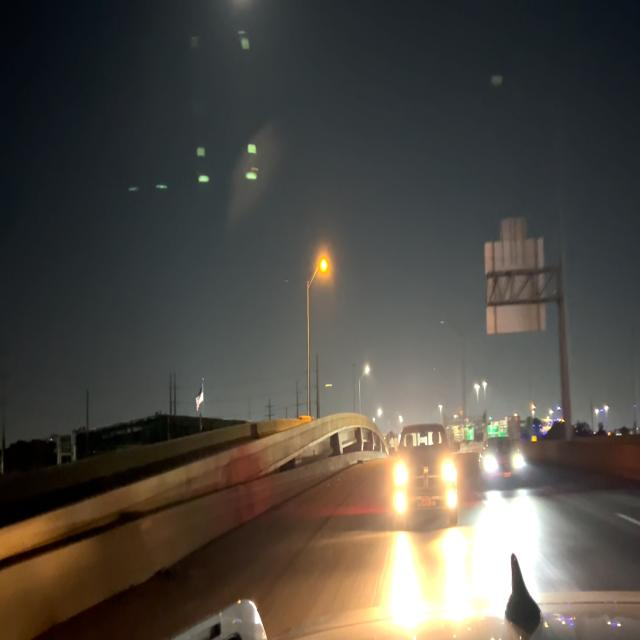back-of-sign: (488, 242, 547, 336), (502, 215, 525, 240)
